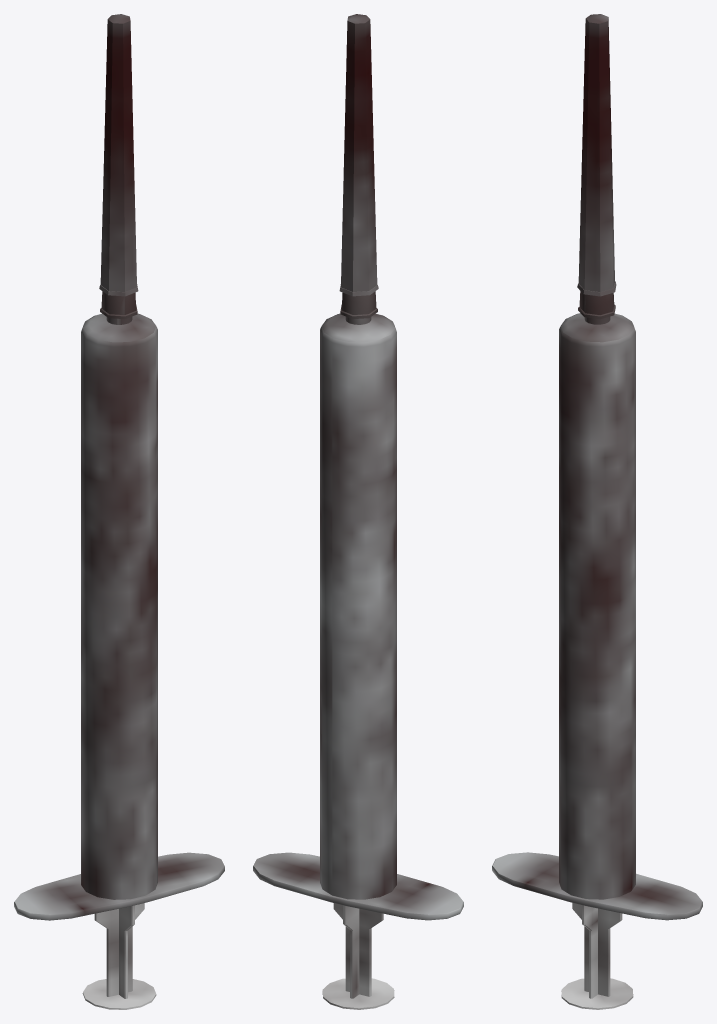
File: Syringe.glb
3 renders of one model, left to right at view 1: azimuth 30°, elevation 25°; view 2: azimuth 150°, elevation 25°; view 3: azimuth 330°, elevation 25°, orthographic.
Parts seen in each view (by area): view 1: syringe1_p1, syringe1_p3, syringe1_p2; view 2: syringe1_p1, syringe1_p3, syringe1_p2; view 3: syringe1_p1, syringe1_p3, syringe1_p2.
Boxes of the visible parts, x1=… form: syringe1_p1: x1=14, y1=291, x2=224, y2=920; syringe1_p3: x1=99, y1=14, x2=138, y2=296; syringe1_p2: x1=82, y1=903, x2=156, y2=1009; syringe1_p1: x1=253, y1=291, x2=463, y2=920; syringe1_p3: x1=339, y1=14, x2=378, y2=296; syringe1_p2: x1=322, y1=903, x2=394, y2=1009; syringe1_p1: x1=492, y1=291, x2=702, y2=920; syringe1_p3: x1=577, y1=14, x2=616, y2=296; syringe1_p2: x1=561, y1=903, x2=633, y2=1009.
Size of the model in its own units: 2.89 by 13.27 by 1.
Materials: 1 (1 with a texture image).
